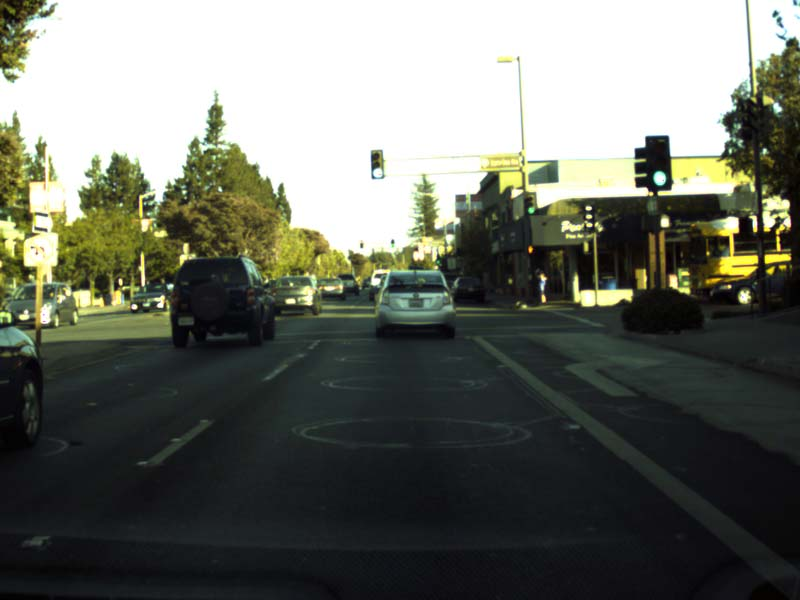Green: (645, 135, 670, 190), (369, 150, 383, 178), (523, 191, 537, 215), (435, 255, 440, 265), (390, 238, 394, 247)
Red: (359, 239, 363, 248)
